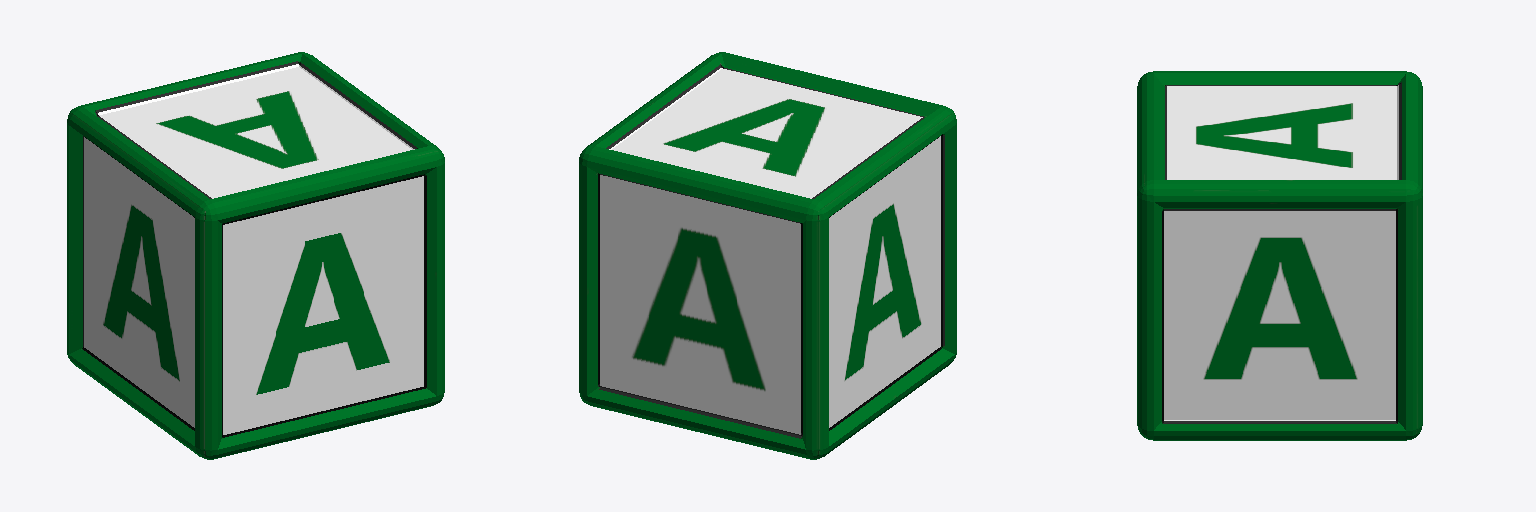
3 renders of one model, left to right at view 1: azimuth 30°, elevation 25°; view 2: azimuth 150°, elevation 25°; view 3: azimuth 270°, elevation 25°, orthographic.
Parts seen in each view (by area): view 1: Cube; view 2: Cube; view 3: Cube.
Part boxes in pixels (x1,y1,x2,y2): Cube: (67, 52, 444, 459); Cube: (579, 52, 956, 459); Cube: (1137, 71, 1422, 440).
Bounding box in the file's own units: 2 × 2 × 2.
Materials: 1 (1 with a texture image).